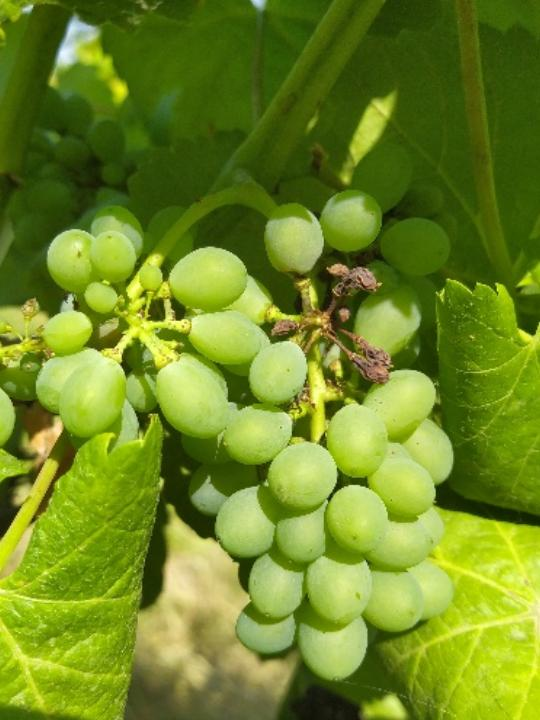grape: (0, 145, 465, 687)
